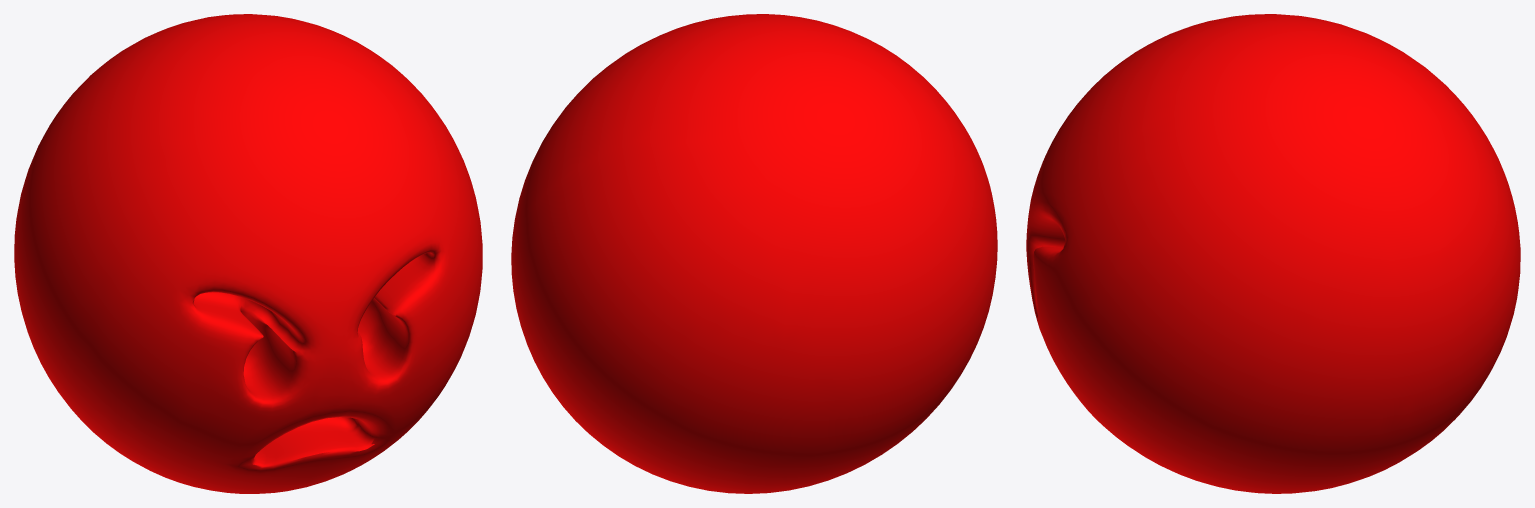
Rendered from angry.dae.
The picture shows the model from 3 angles, left to right: view 1: azimuth 30°, elevation 25°; view 2: azimuth 150°, elevation 25°; view 3: azimuth 270°, elevation 25°; orthographic projection.
Visible parts, largest first — view 1: Group38430; view 2: Group38430; view 3: Group38430.
Part boxes in pixels (left/top/right/bottom): Group38430: left=14, top=14, right=482, bottom=493; Group38430: left=511, top=14, right=997, bottom=493; Group38430: left=1026, top=14, right=1520, bottom=493.
Size of the model in its own units: 22.12 by 22.41 by 23.05.
Materials: 1 (1 with a texture image).
